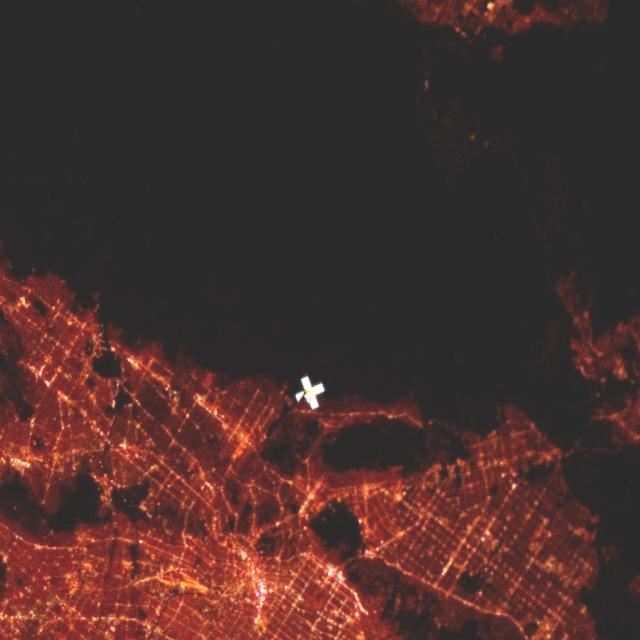satellite: (277, 365, 331, 421)
